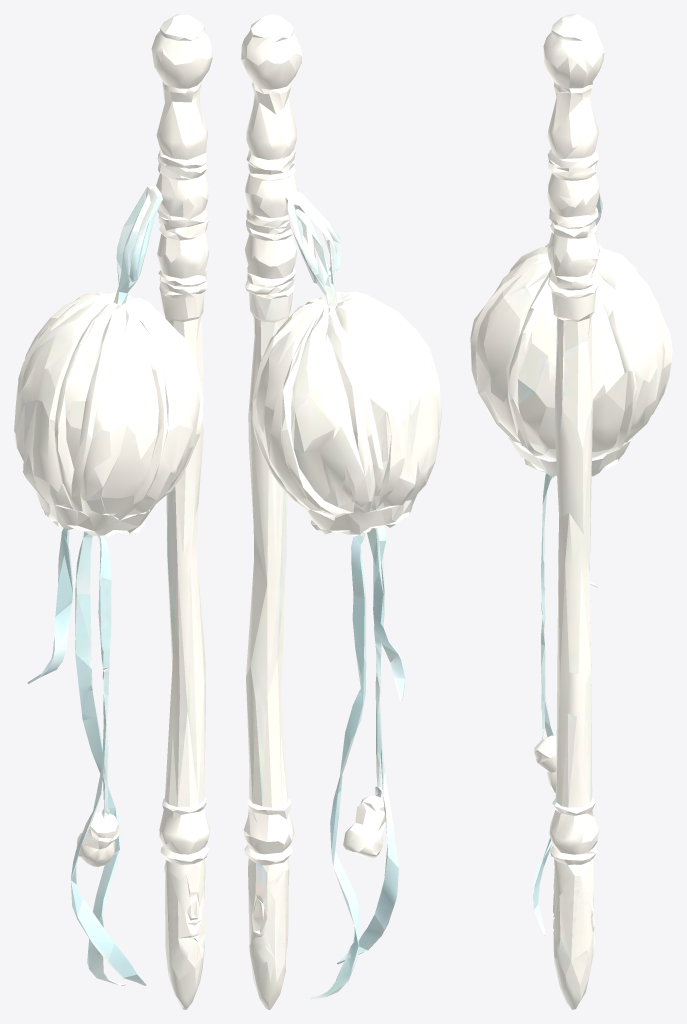
The model's file is rocca.glb.
3 views of the same model, side by side, from view 1: azimuth 30°, elevation 25°; view 2: azimuth 150°, elevation 25°; view 3: azimuth 270°, elevation 25° (orthographic).
Size of the model in its own units: 0.3614 by 1.9 by 0.3512.
1 material, 1 textured.
